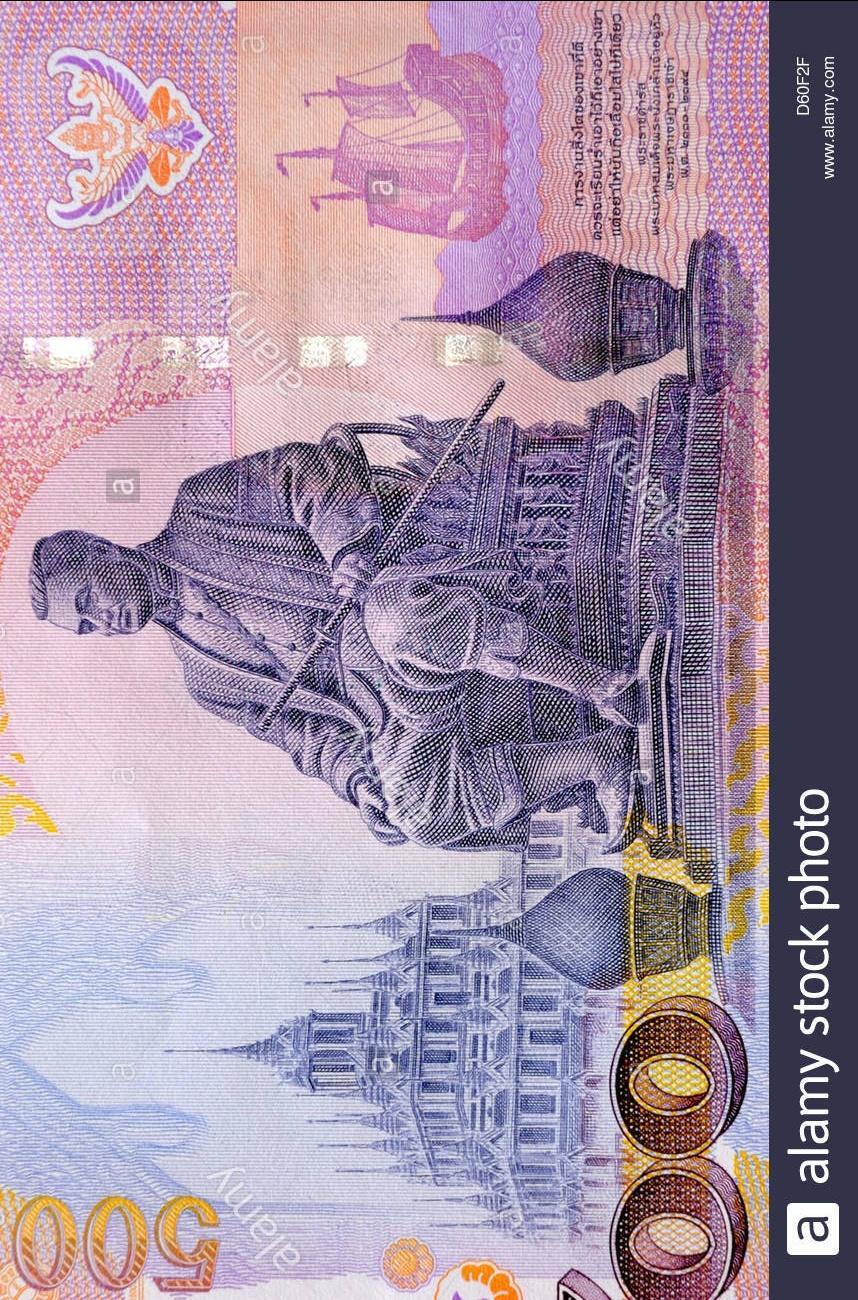500BahtTai: (12, 3, 738, 1292)
